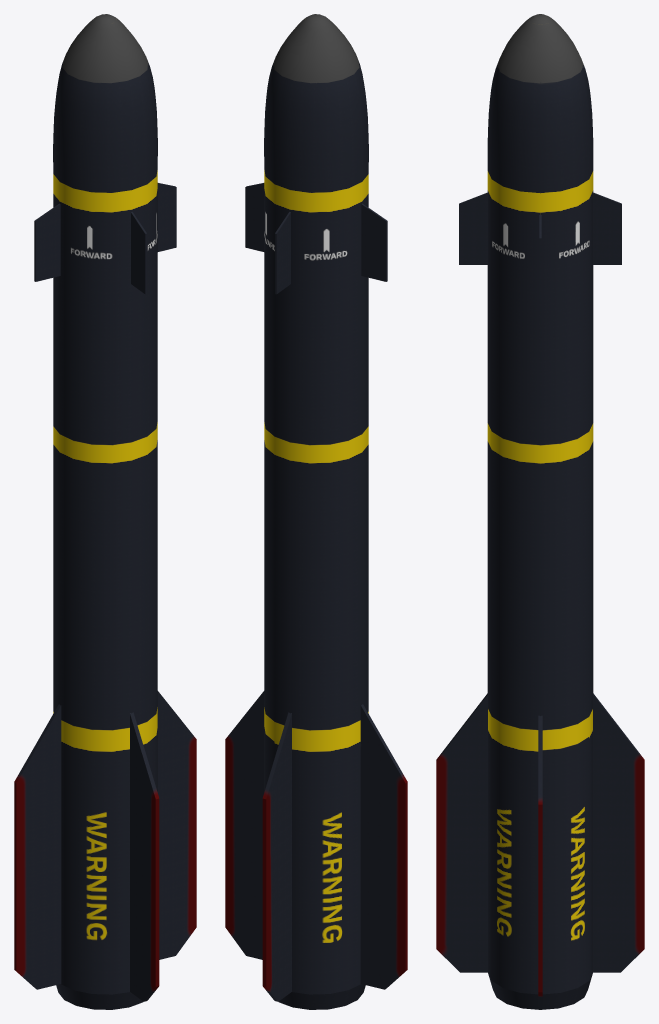
3 renders of one model, left to right at view 1: azimuth 30°, elevation 25°; view 2: azimuth 150°, elevation 25°; view 3: azimuth 270°, elevation 25°, orthographic.
Parts seen in each view (by area): view 1: Hellfire; view 2: Hellfire; view 3: Hellfire.
Part boxes in pixels (left/top/right/bottom): Hellfire: left=14, top=14, right=196, bottom=1009; Hellfire: left=225, top=14, right=407, bottom=1009; Hellfire: left=436, top=14, right=644, bottom=1009.
Bounding box in the file's own units: 28.14 × 145 × 28.14.
Materials: 1 (1 with a texture image).
